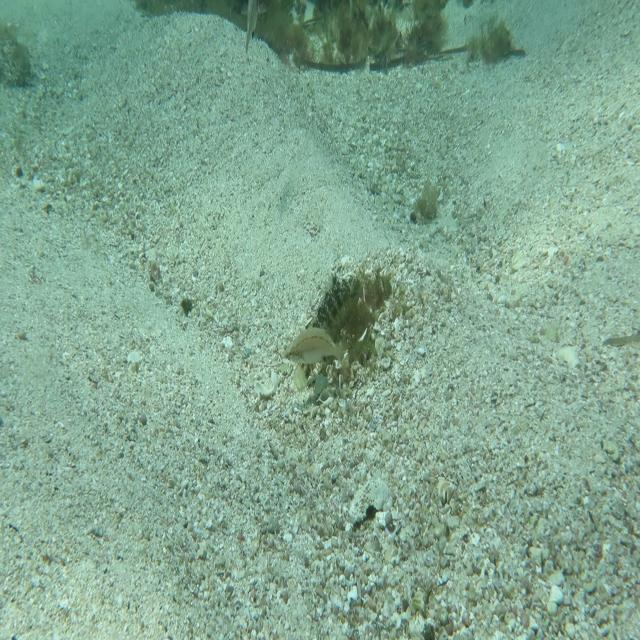BEND: (292, 263, 364, 392)
female: (280, 318, 350, 372)
nest: (298, 256, 393, 390)
other_fish: (242, 0, 262, 60)
vegetation: (255, 0, 524, 71), (410, 172, 443, 227)
